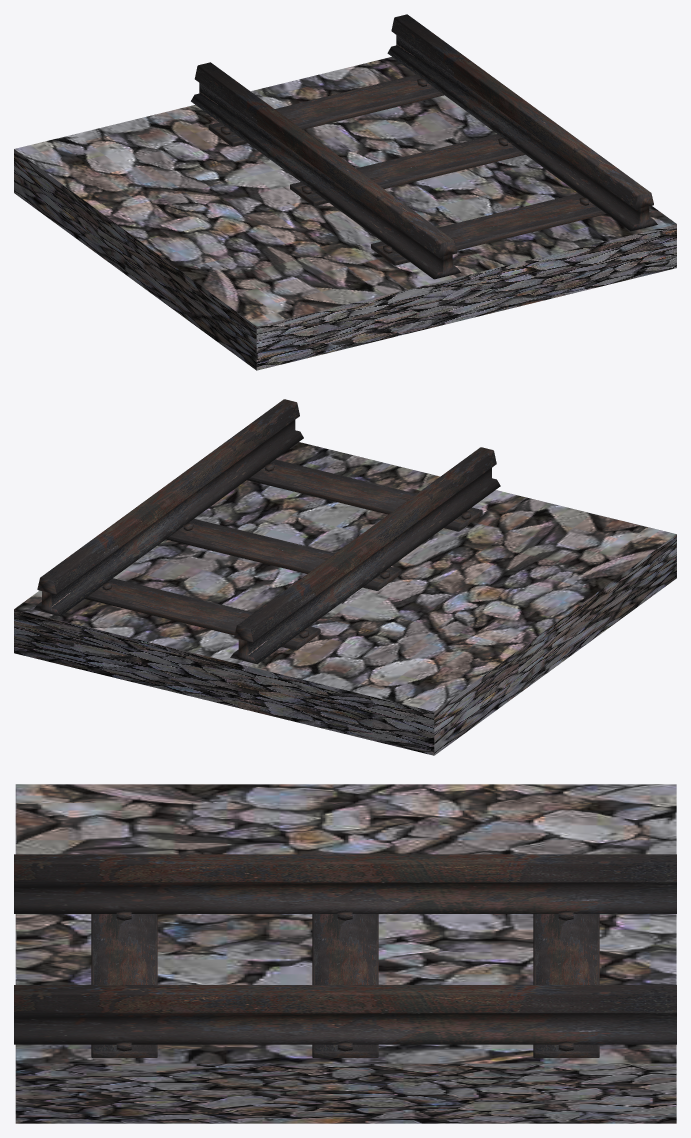
The model's file is RAIL_STRAIGHT.glb.
3 renders of one model, top to bottom at view 1: azimuth 30°, elevation 25°; view 2: azimuth 150°, elevation 25°; view 3: azimuth 270°, elevation 25°, orthographic. The views are drawn at different scales.
Parts seen in each view (by area): view 1: Cube.002, rayH.001; view 2: Cube.002, rayH.001; view 3: Cube.002, rayH.001.
Part boxes in pixels (left/top/right/bottom): Cube.002: left=14, top=57, right=676, bottom=370; rayH.001: left=191, top=14, right=657, bottom=279; Cube.002: left=14, top=442, right=676, bottom=755; rayH.001: left=33, top=399, right=500, bottom=664; Cube.002: left=15, top=784, right=676, bottom=1123; rayH.001: left=14, top=854, right=676, bottom=1057.
Size of the model in its own units: 16.02 by 3.01 by 16.07.
Materials: 2 (2 with a texture image).
